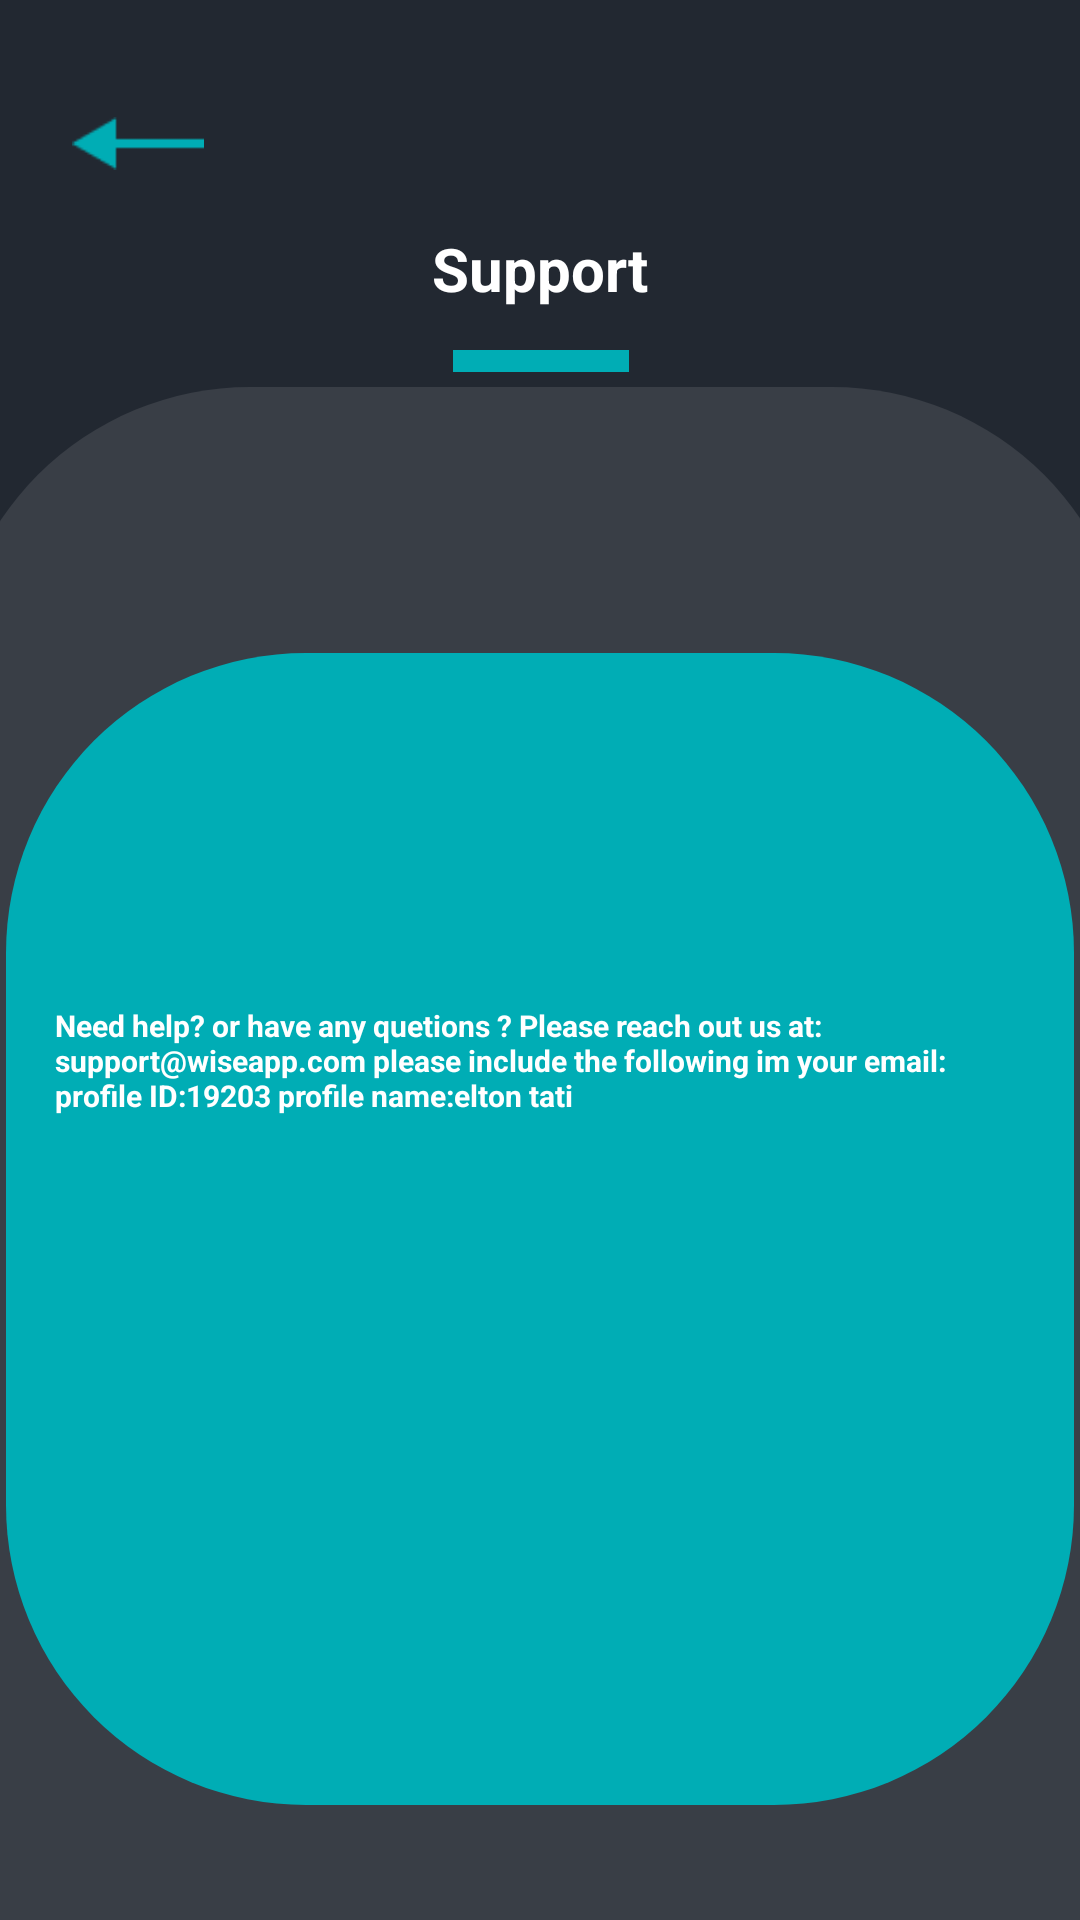

Named icons in this screenshot (1080×1920) and their centers, [x,y]:
back arrow: [138,143]
